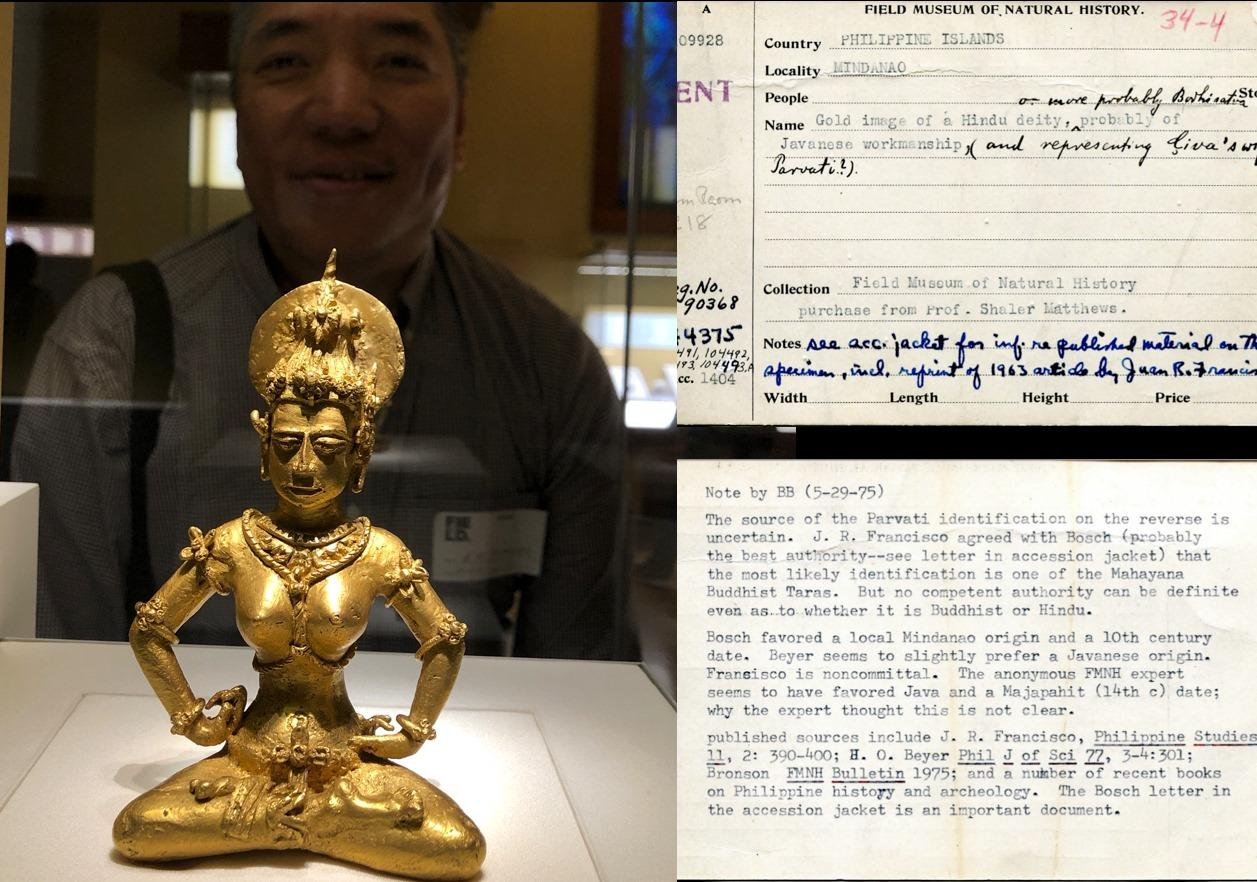golden_tara_of_agusan: (109, 240, 491, 879)
